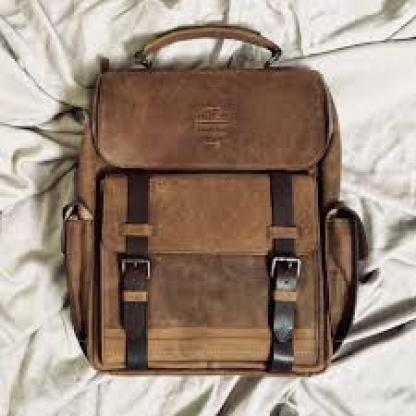morral: (43, 15, 400, 388)
